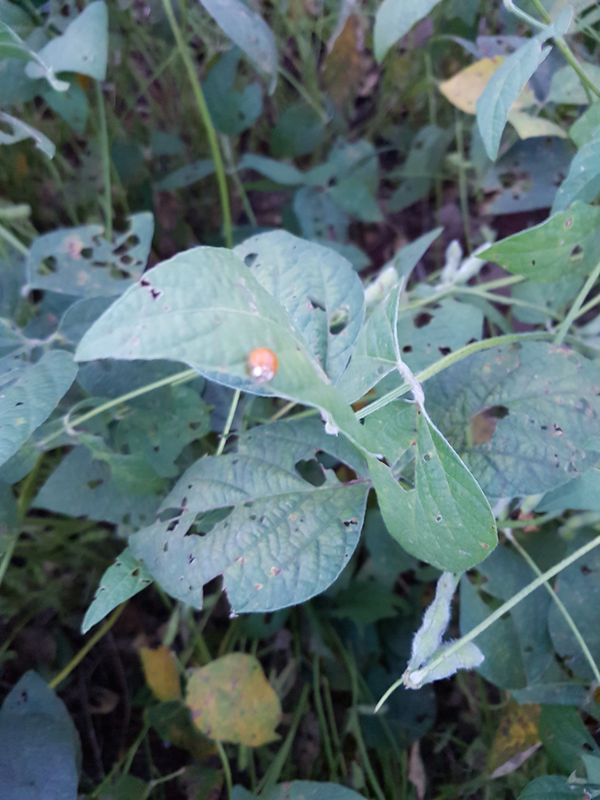Coccinellidae: (232, 336, 291, 389)
